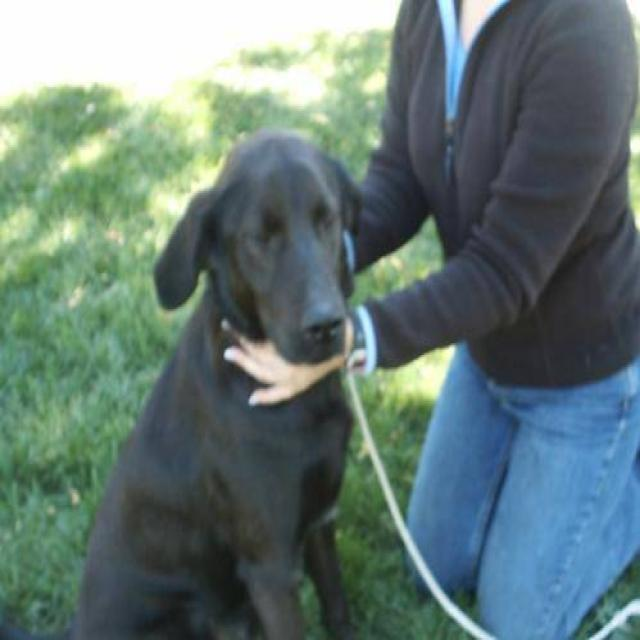dogs: (70, 147, 414, 640)
